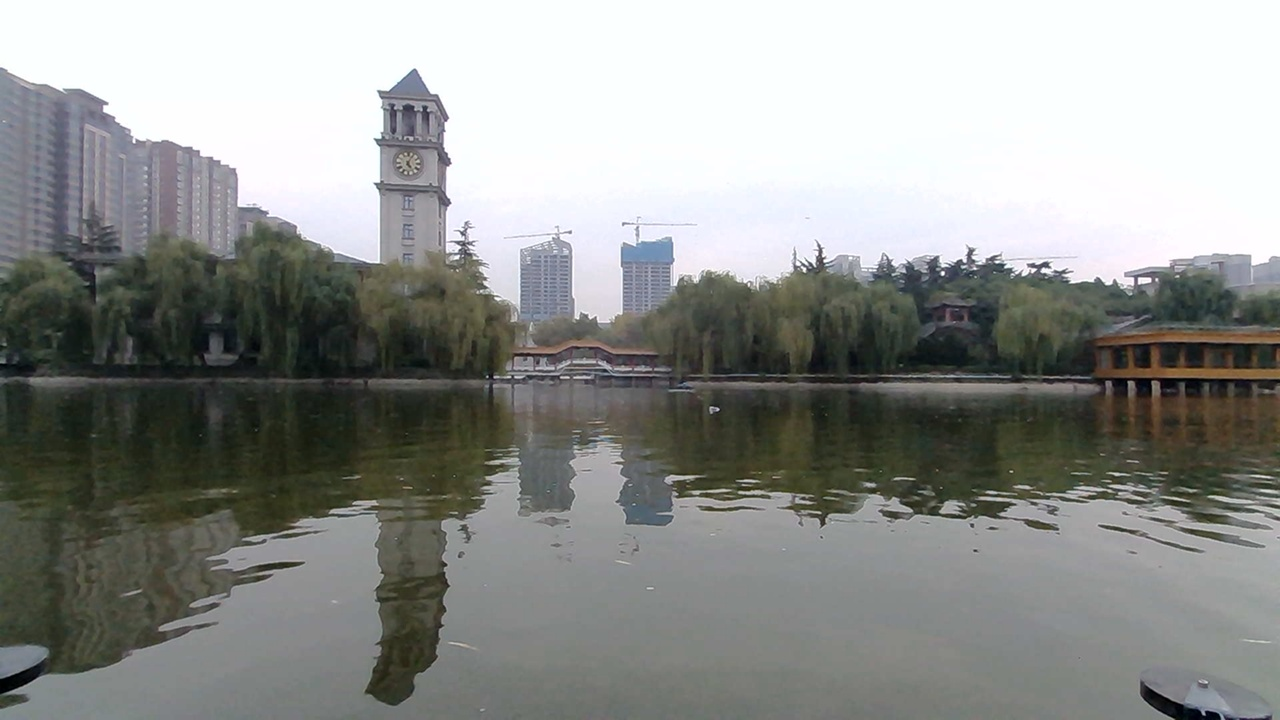bottle: (703, 396, 749, 420)
